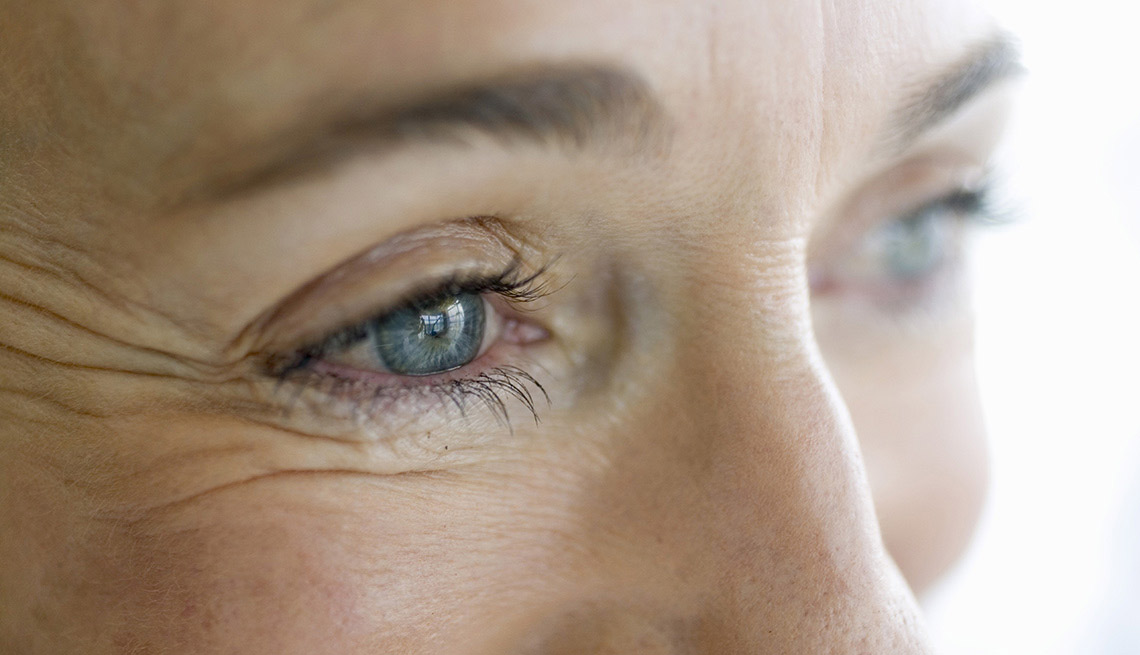Kerutan: (4, 229, 282, 514), (197, 381, 555, 498)
